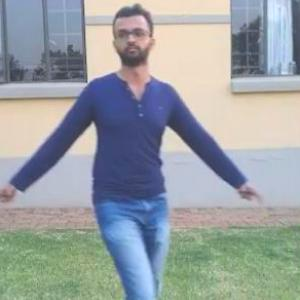land: (18, 3, 286, 299)
